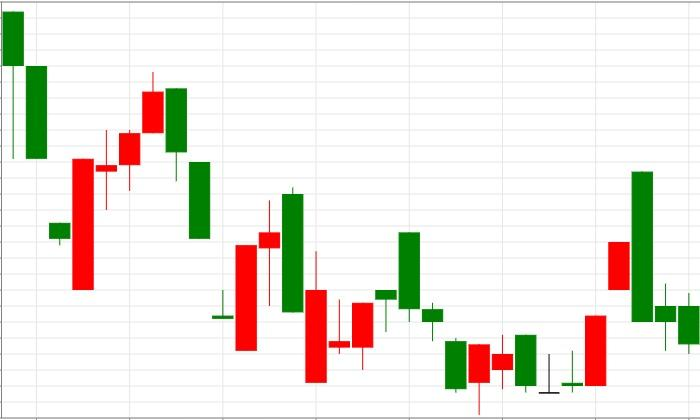bearish_engulfing_fall: (539, 171, 655, 395)
bullish_engulfing_rise: (142, 72, 257, 352), (2, 11, 95, 290)
